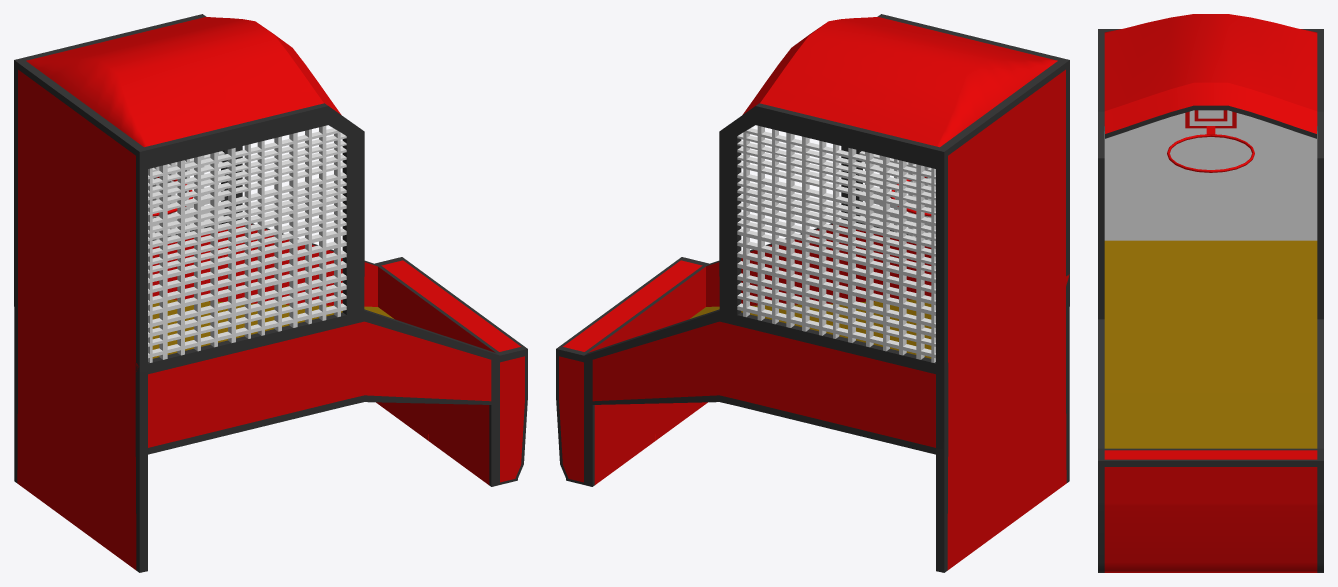
File: mini_basketball_machine.fbx
3 views of the same model, side by side, from view 1: azimuth 30°, elevation 25°; view 2: azimuth 150°, elevation 25°; view 3: azimuth 270°, elevation 25° (orthographic). The views are drawn at different scales.
Visible parts, largest first — view 1: mini_basketball_machine; view 2: mini_basketball_machine; view 3: mini_basketball_machine.
Part boxes in pixels (x1,y1,x2,y2): mini_basketball_machine: [14, 14, 527, 572]; mini_basketball_machine: [556, 14, 1069, 572]; mini_basketball_machine: [1098, 14, 1323, 572].
Size of the model in its own units: 21.79 by 24.3 by 12.23.
